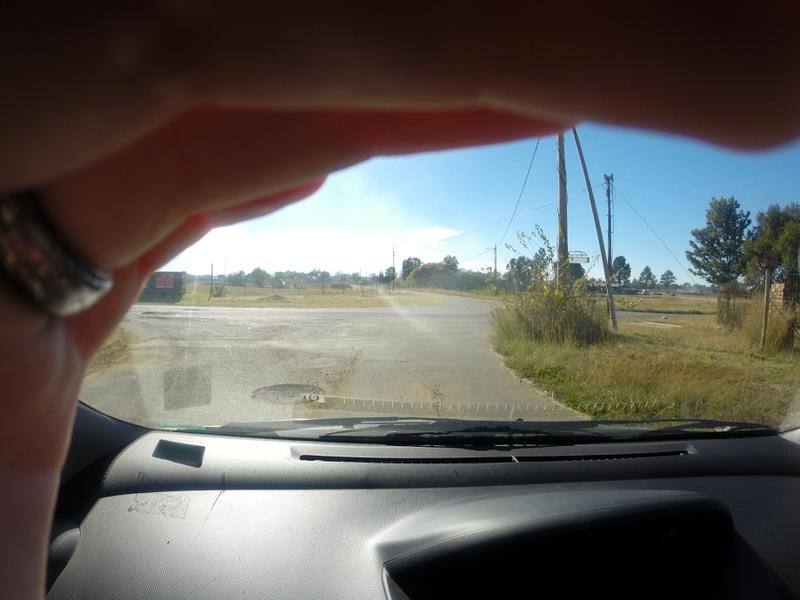pothole: (252, 374, 326, 403), (140, 310, 169, 314), (175, 307, 201, 311)
